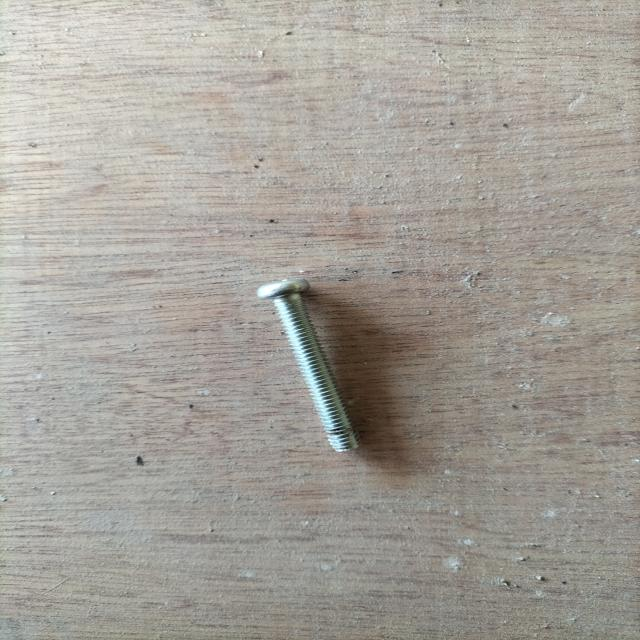bolt: (256, 278, 367, 451)
